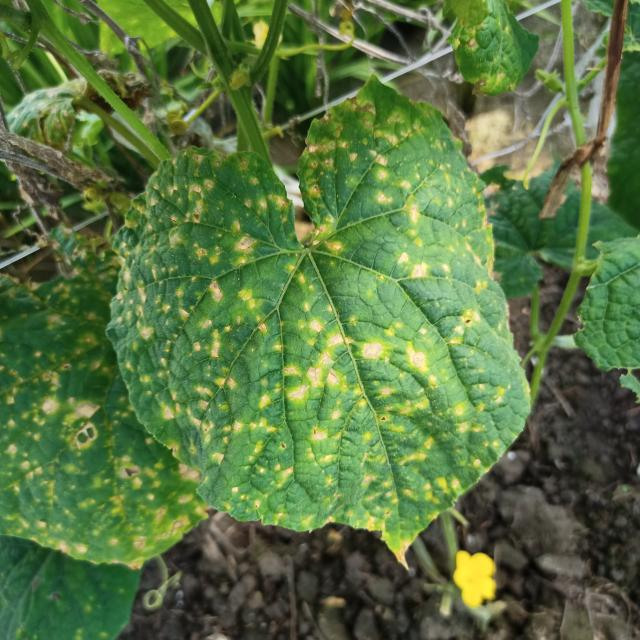disease_cucumber: (116, 93, 529, 544), (0, 260, 210, 564)
